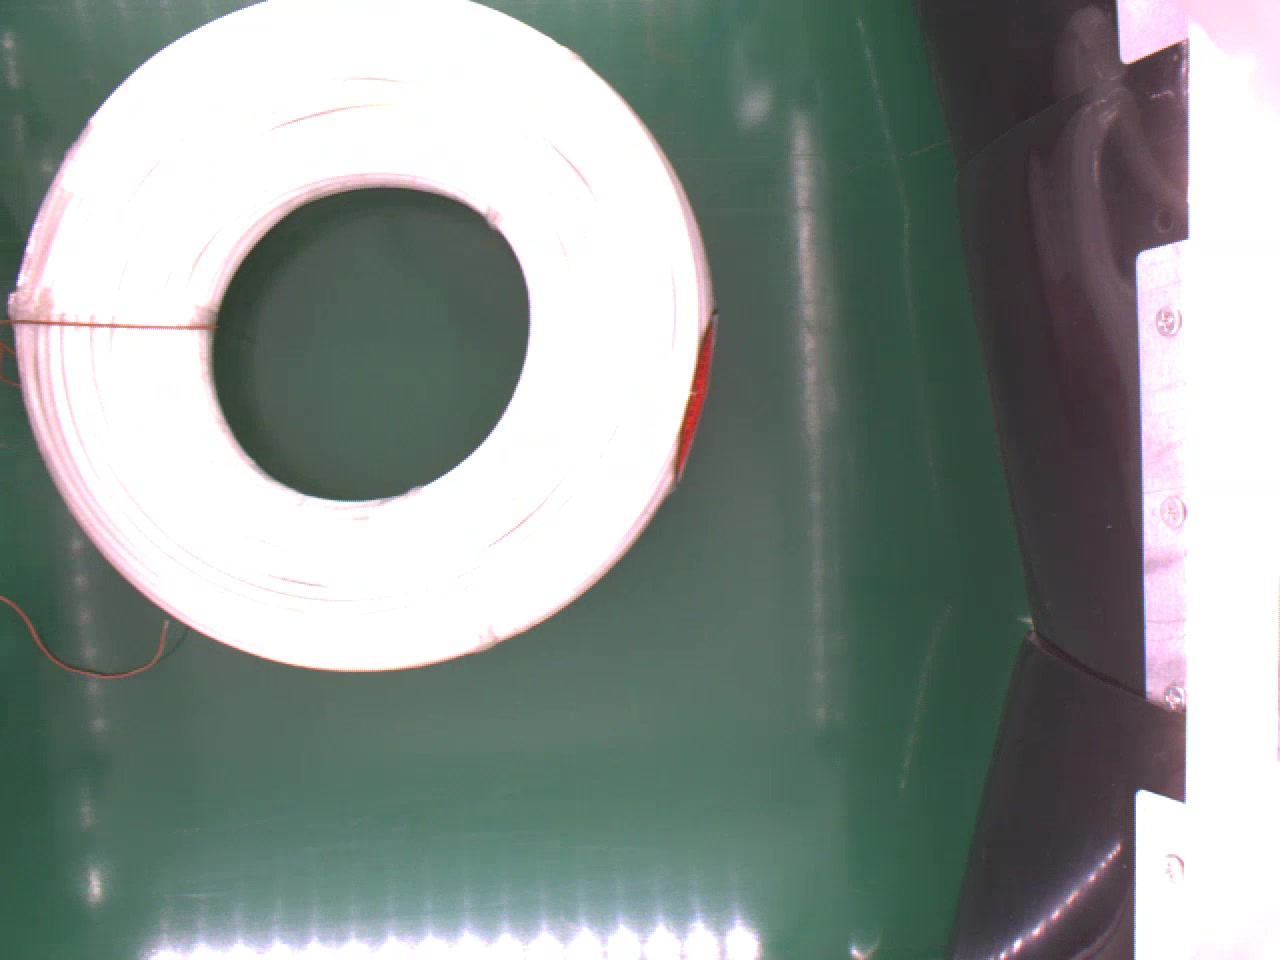white: (0, 0, 715, 674)
